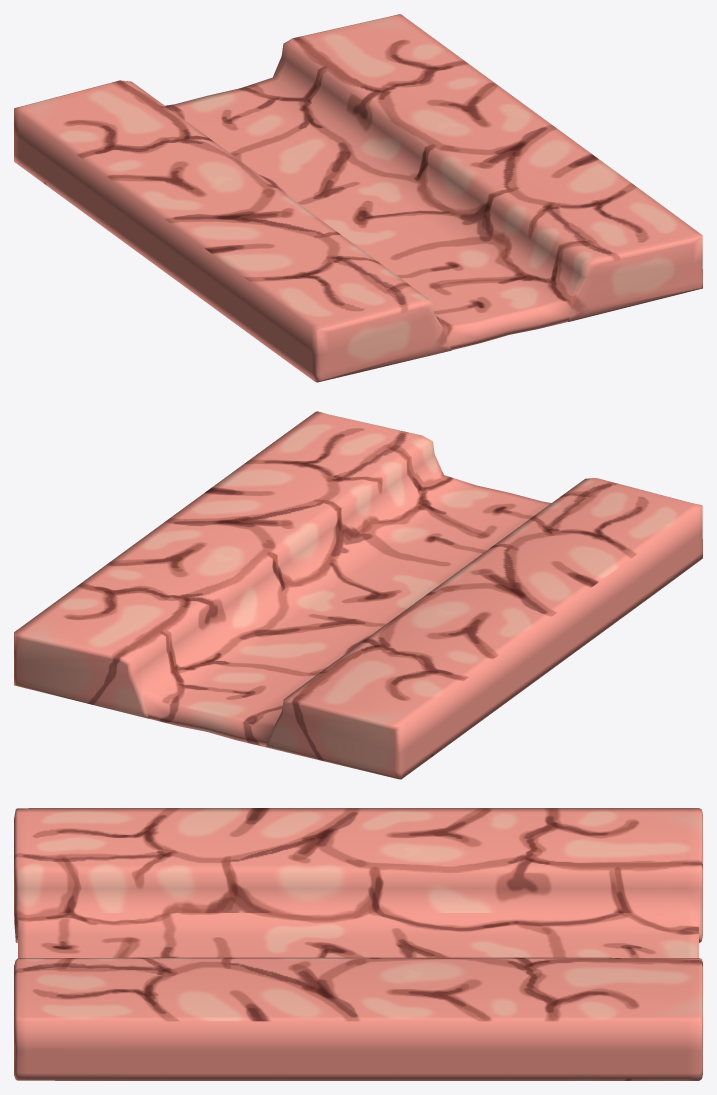
The model's file is brain.fbx.
3 views of the same model, one above another, from view 1: azimuth 30°, elevation 25°; view 2: azimuth 150°, elevation 25°; view 3: azimuth 270°, elevation 25° (orthographic). The views are drawn at different scales.
Visible parts, largest first — view 1: bone.001; view 2: bone.001; view 3: bone.001.
Boxes of the visible parts, <box> form: bone.001: <box>14,14,702,382</box>; bone.001: <box>14,411,702,779</box>; bone.001: <box>14,808,702,1080</box>.
Size of the model in its own units: 2972 by 415 by 4056.
1 material, 1 textured.
